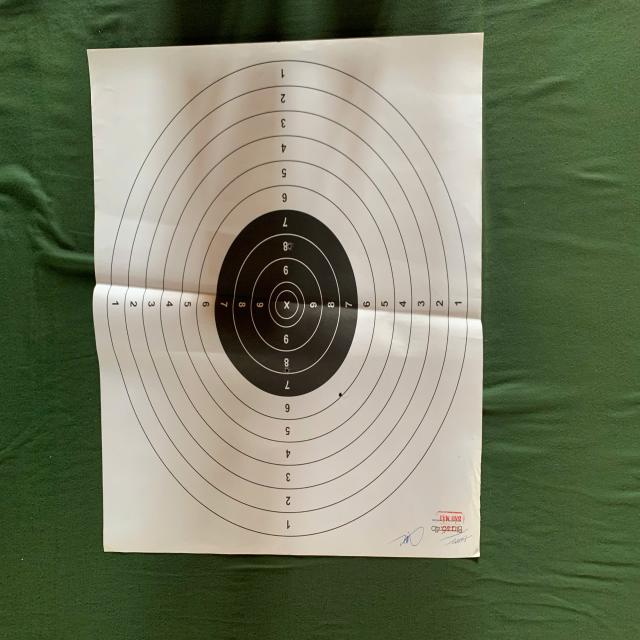bullet: (288, 242, 293, 251), (284, 368, 290, 374), (338, 392, 344, 398)
target: (89, 34, 483, 557)
